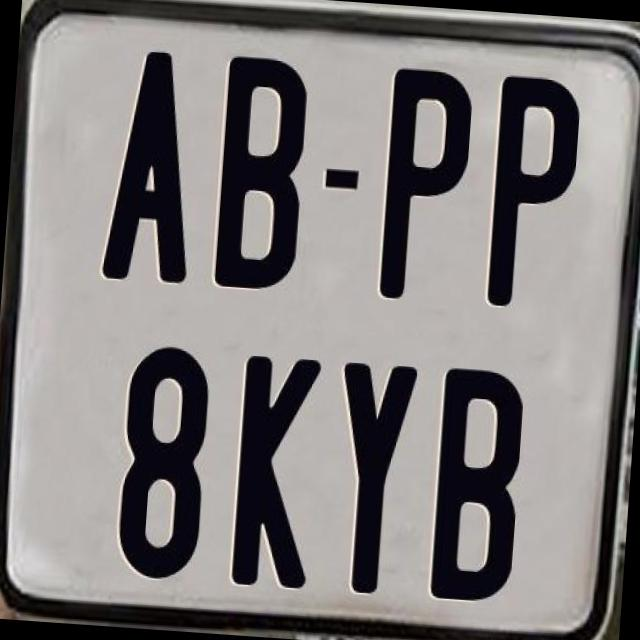8: (112, 340, 211, 584)
A: (100, 49, 208, 290)
B: (429, 364, 532, 602), (212, 50, 312, 292)
K: (230, 353, 322, 592)
P: (378, 67, 480, 306), (486, 70, 582, 314)
Y: (327, 360, 422, 602)
